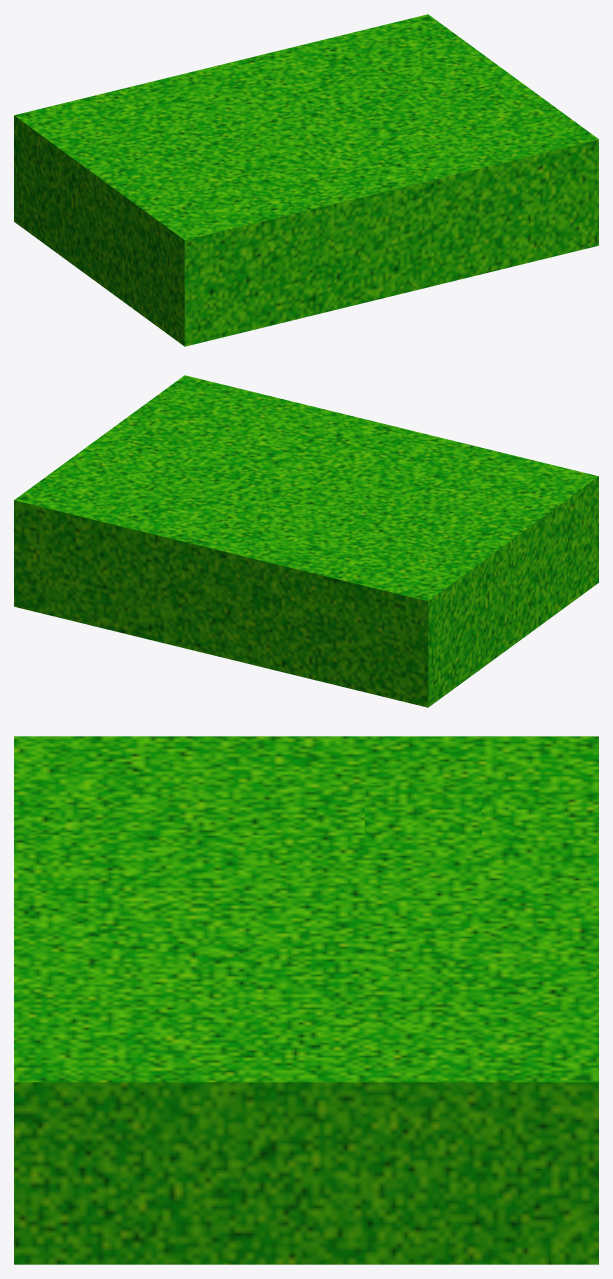
File: copa1.fbx
3 views of the same model, one above another, from view 1: azimuth 30°, elevation 25°; view 2: azimuth 150°, elevation 25°; view 3: azimuth 270°, elevation 25° (orthographic). The views are drawn at different scales.
Parts seen in each view (by area): view 1: copa3; view 2: copa3; view 3: copa3.
Part boxes in pixels (x1,y1,x2,y2): copa3: [14, 14, 598, 346]; copa3: [14, 375, 598, 707]; copa3: [14, 736, 598, 1264].
Size of the model in its own units: 70 by 17.19 by 50.
1 material, 1 textured.
